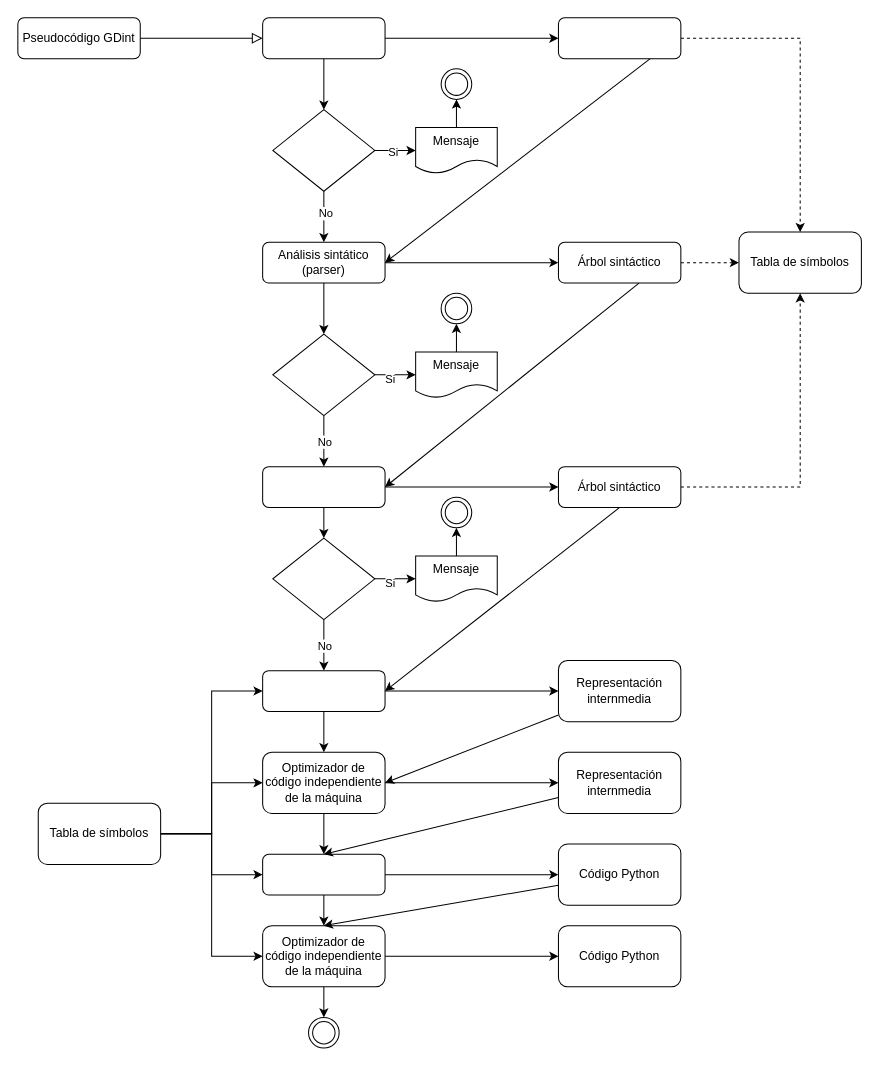
Some shapes in this 879 by 1066 pixel diagram are drawn without their labels. The shapes that lost their labels are listed below. From the top down, each one's box as (x1, y1, x2, y2) in pixels, then its label:
(262, 17, 385, 59): Análisis léxico
(557, 17, 681, 59): Flujo de Tokens
(272, 109, 375, 191): ¿Error léxico?
(272, 333, 375, 416): ¿Error sintáctico?
(262, 466, 385, 507): Análisis semántico
(272, 537, 375, 620): ¿Error semántico?
(262, 670, 385, 711): Generador de código internmedio
(262, 853, 385, 895): Generador de código
